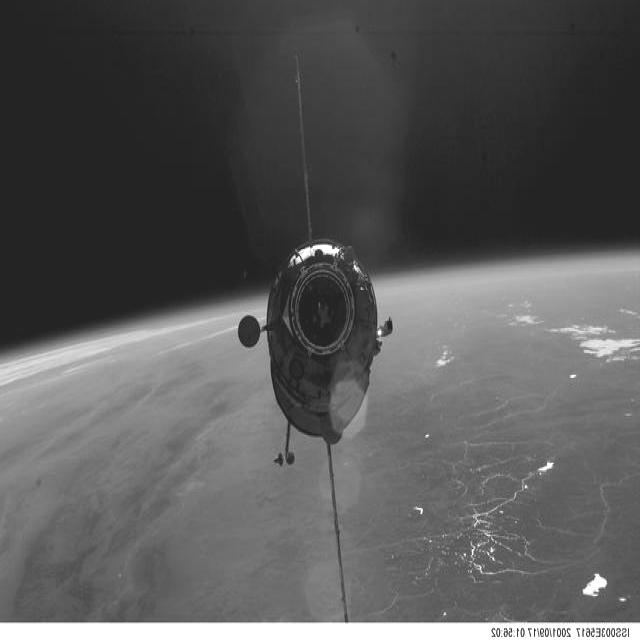satellite: (244, 62, 392, 636)
